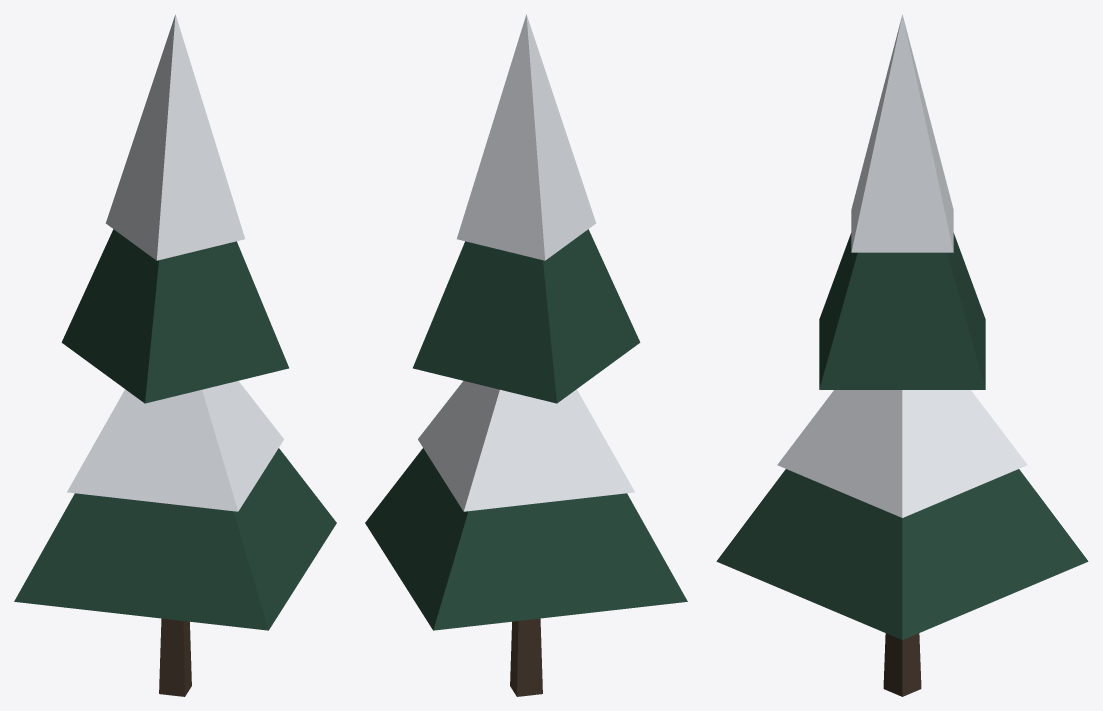
Rendered from pine_snow_lod2.glb.
The picture shows the model from 3 angles, left to right: view 1: azimuth 30°, elevation 25°; view 2: azimuth 150°, elevation 25°; view 3: azimuth 270°, elevation 25°; orthographic projection.
Visible parts, largest first — view 1: pine_snow_lod2; view 2: pine_snow_lod2; view 3: pine_snow_lod2.
Boxes of the visible parts, x1,y1,x2,y2 form: pine_snow_lod2: [14, 14, 336, 696]; pine_snow_lod2: [365, 14, 687, 696]; pine_snow_lod2: [716, 14, 1088, 696].
Size of what is drawn, in the model's own units: 4.9 by 9.8 by 4.9.
2 materials, 2 textured.
